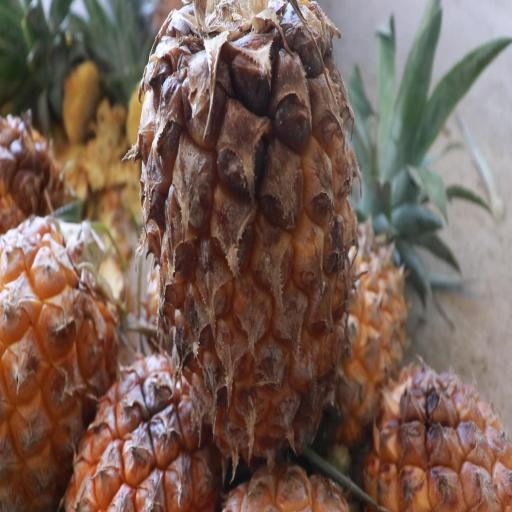Pineapple - v8 v1: (135, 0, 362, 473), (0, 204, 124, 512), (58, 336, 222, 512), (361, 359, 512, 512)
